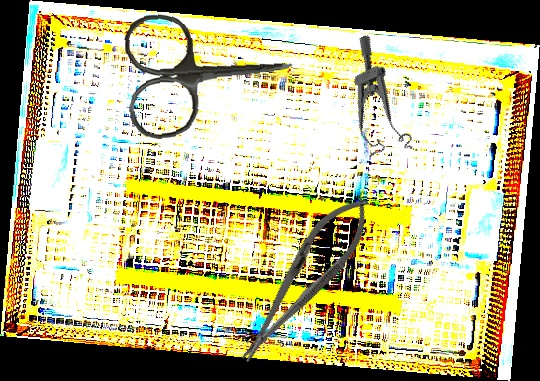Iris Scissors: (122, 5, 298, 141)
Needle Holder: (223, 184, 385, 375)
Speculum: (320, 34, 424, 167)
